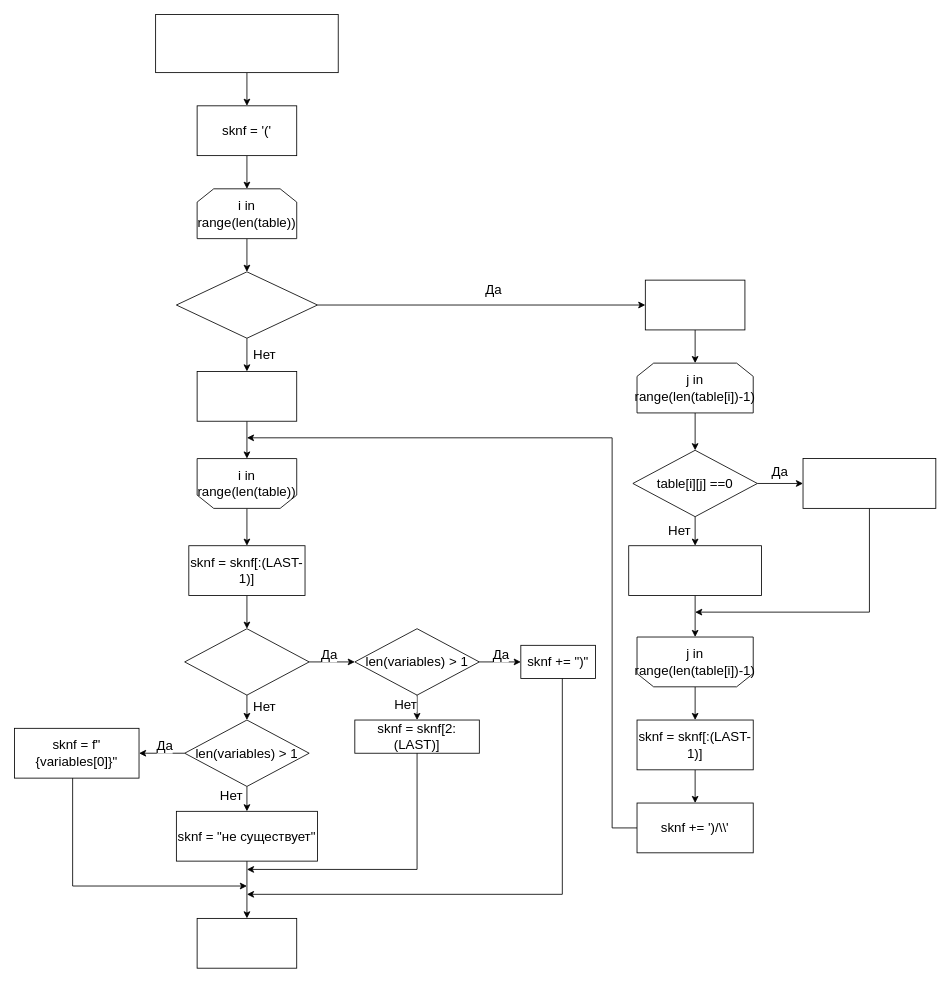
The diagram is 950 pixels wide and 983 high, and some of its shapes have lost their labels. Each missing label, with the centre of its shape:
continue: [246,396]
create_sknf(table, variables): [246,43]
len(sknf) != 0: [246,661]
return sknf: [246,943]
sknf += '(': [694,304]
sknf += f"!{variables[j]}\\/": [695,570]
sknf += f"{variables[j]}\\/": [869,483]
table[i][LAST] == 0: [246,304]
